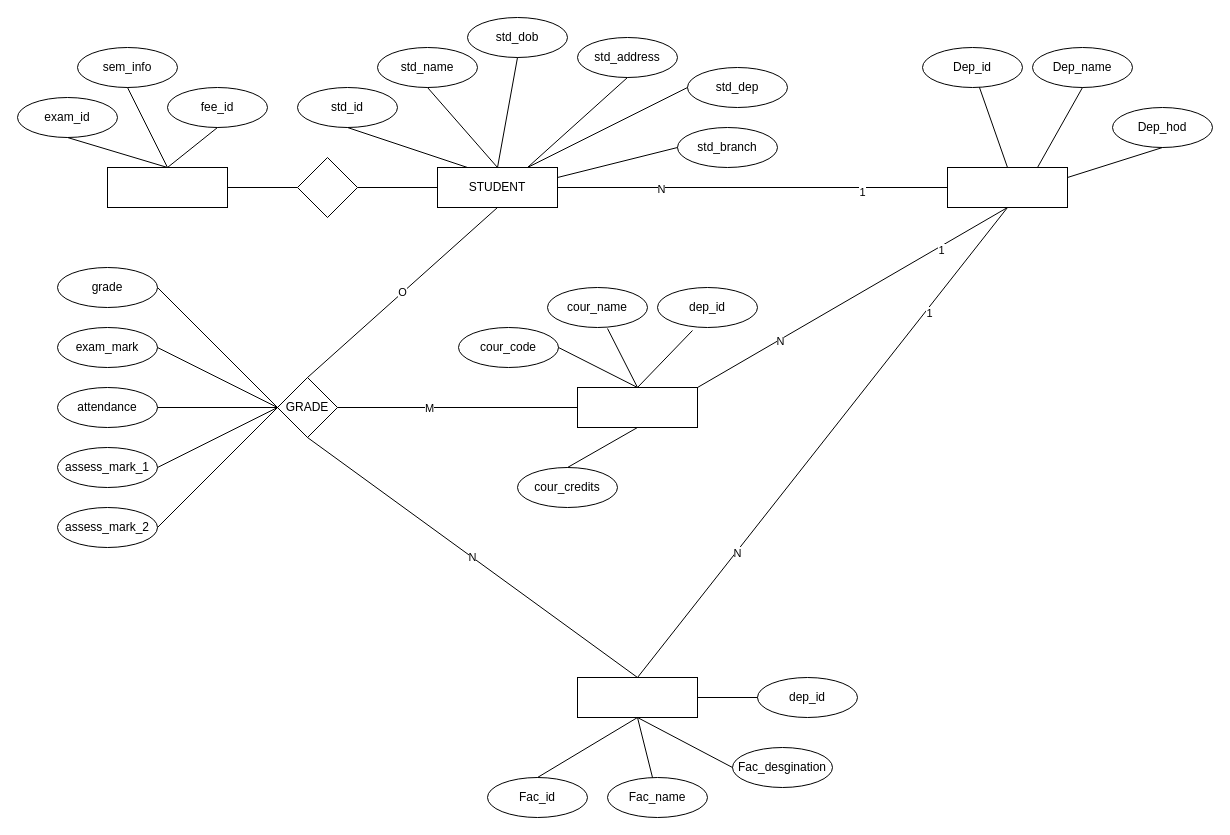
Some shapes in this 1230 by 835 pixel diagram are drawn without their labels. The centre of each missing label's shape, as x and y in pixels:
"COURSE" goes at [637,407].
"DEPARTMENT" goes at [1007,187].
"EXAM" goes at [167,187].
"FACULTY" goes at [637,697].
"FEE" goes at [327,187].
